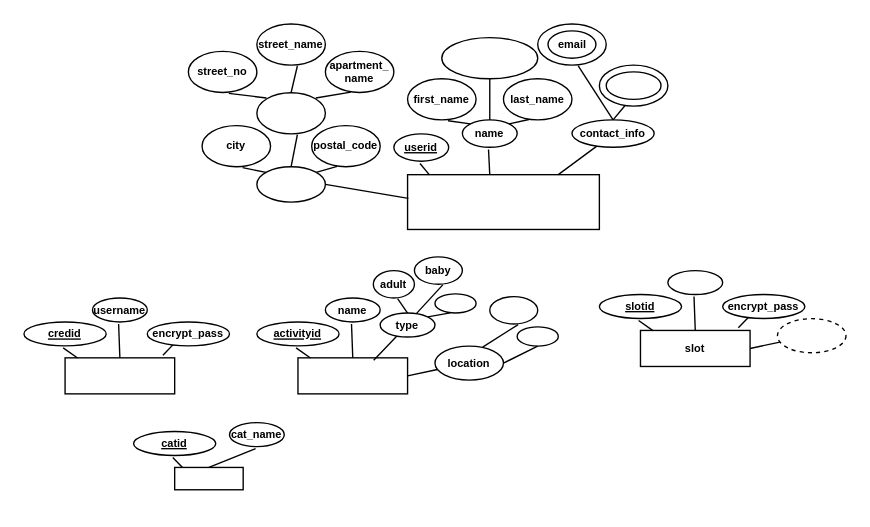
This 870x527 diagram has some shape labels left out. Each missing label, with the box of its shape:
activity: (297, 356, 408, 394)
Address: (256, 165, 325, 202)
category: (173, 466, 243, 490)
end_time: (776, 317, 846, 353)
floor: (516, 326, 558, 346)
login_credntial: (64, 356, 175, 394)
middle_name: (440, 36, 538, 79)
mixed: (434, 292, 476, 313)
phone_no: (605, 71, 661, 99)
start_time: (667, 269, 723, 295)
street: (256, 91, 325, 134)
user: (406, 173, 599, 229)
zone: (488, 295, 538, 324)
